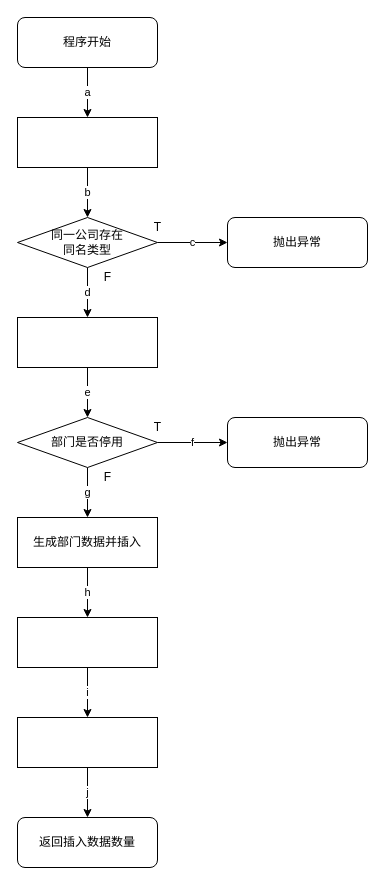
The diagram is 385 pixels wide and 885 high, and some of its shapes have lost their labels. The shapes that lost their labels are listed below. From the top down, each one's centre as x and y in pixels, then its label:
point 87,142: 查找当前公司
point 87,342: 创建新部门信息
point 87,642: 设置服务单类型信息 并修改部门信息
point 87,742: 插入服务单类型信息
